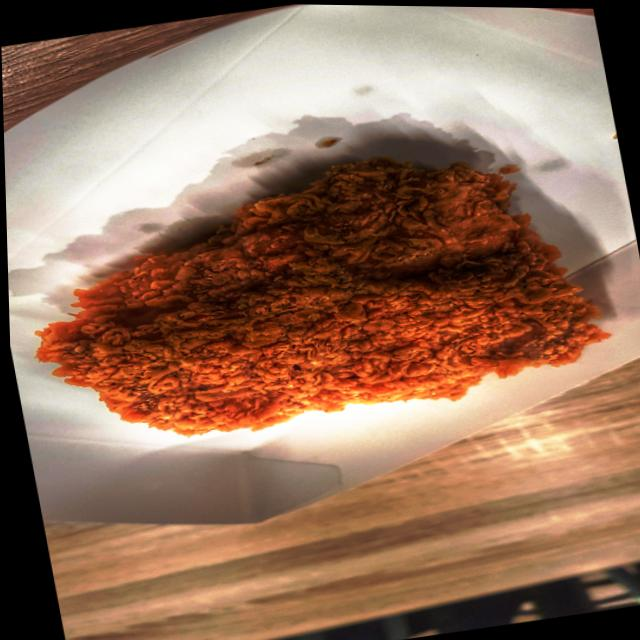fried_chicken: (13, 120, 621, 467)
